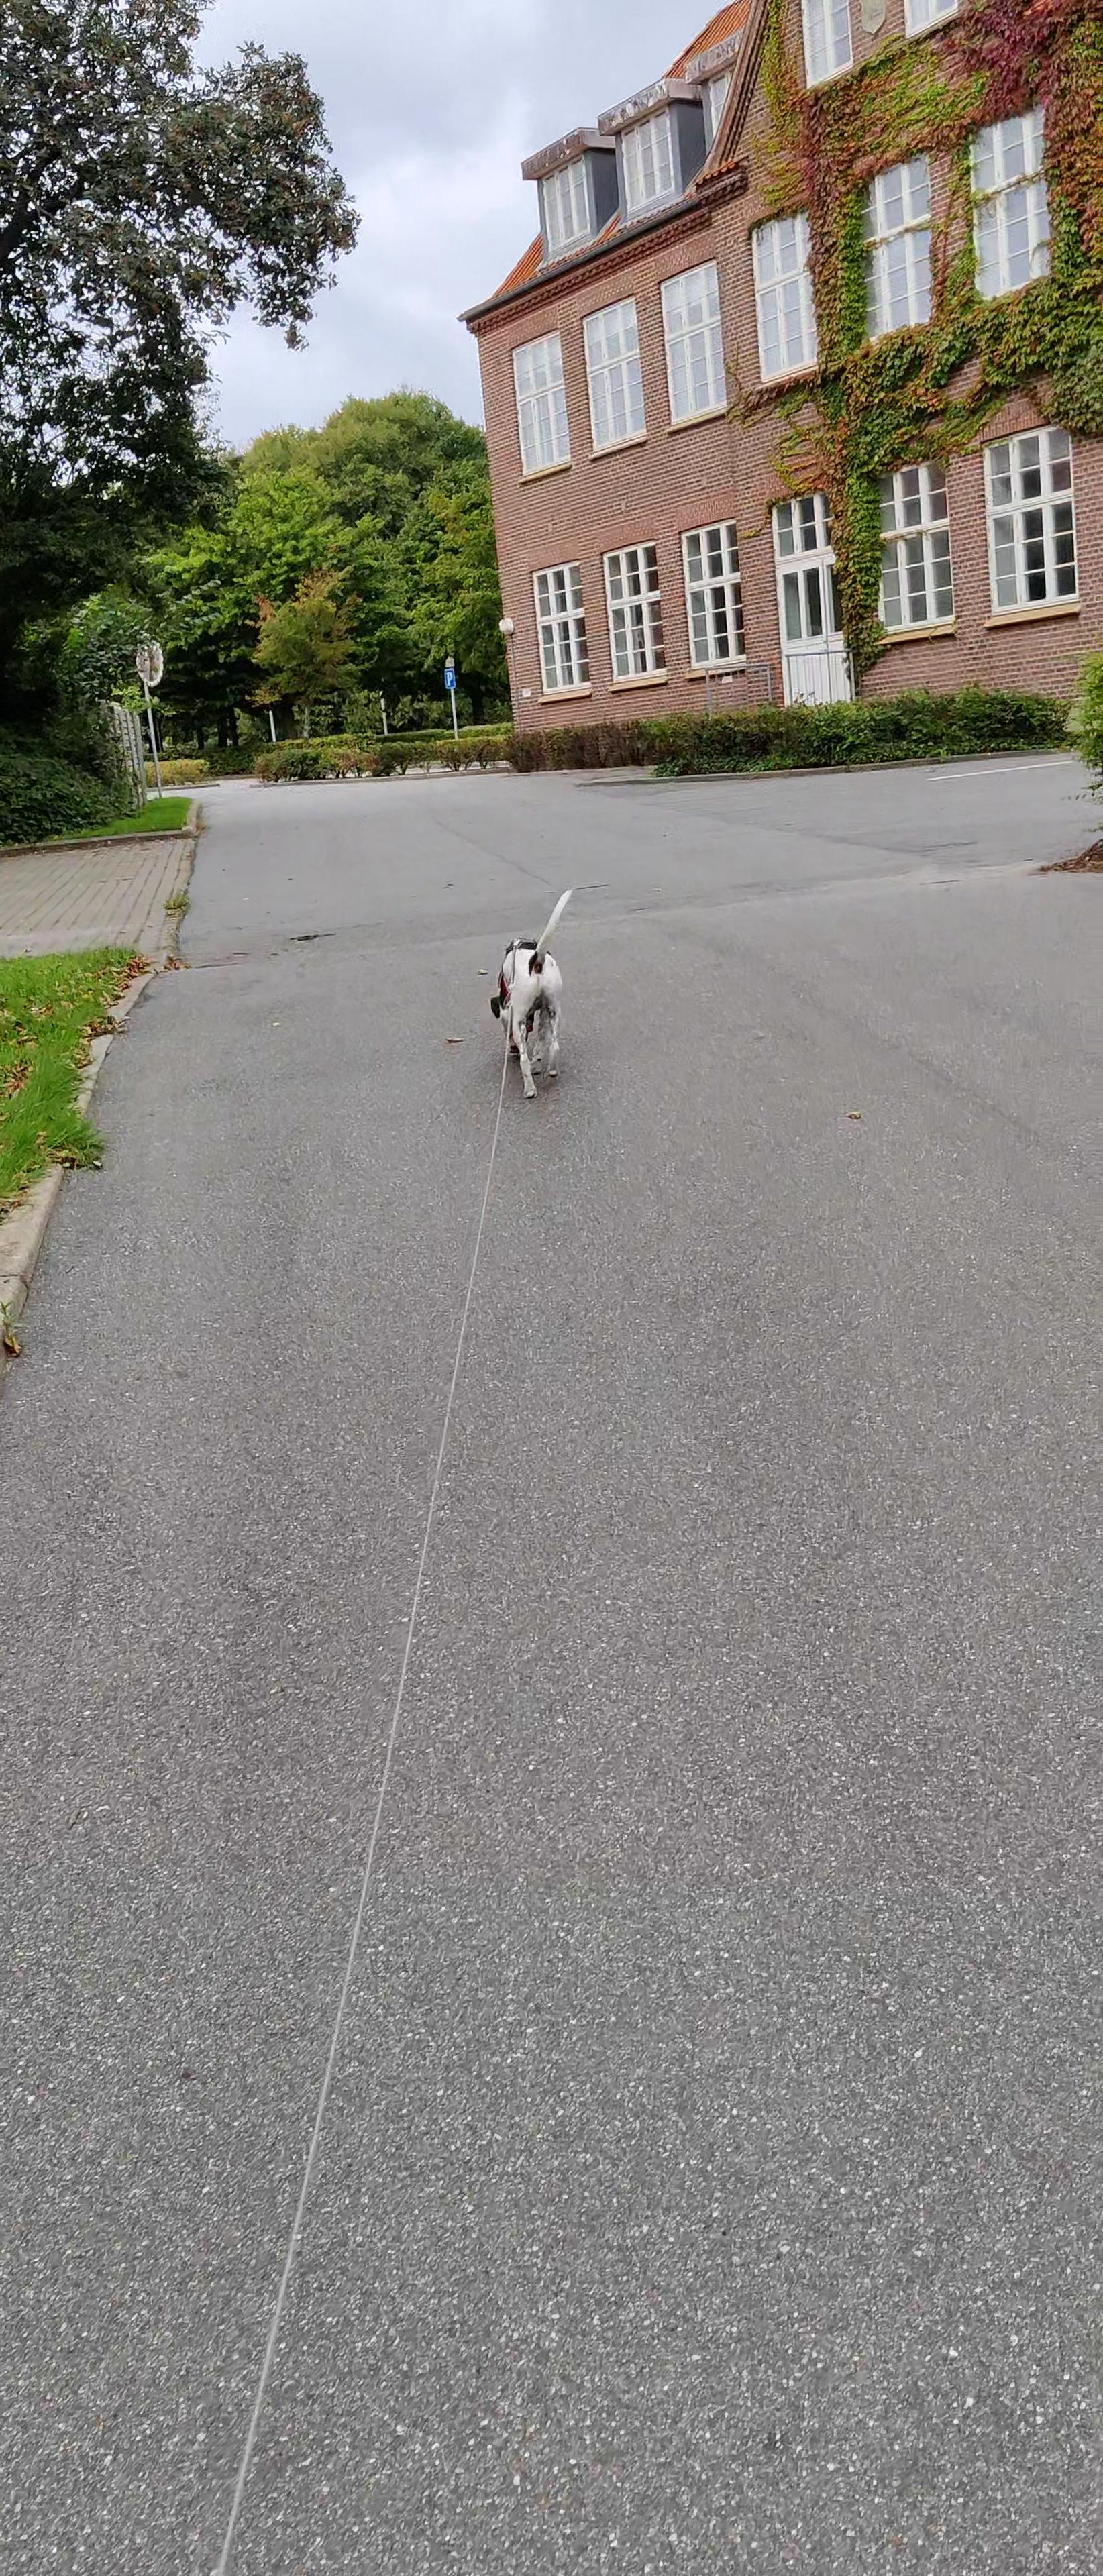Dog: (487, 882, 580, 1104)
